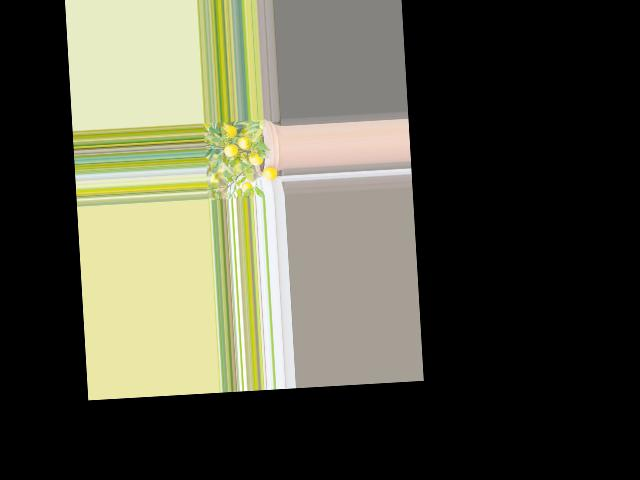lemon: (239, 181, 255, 193)
